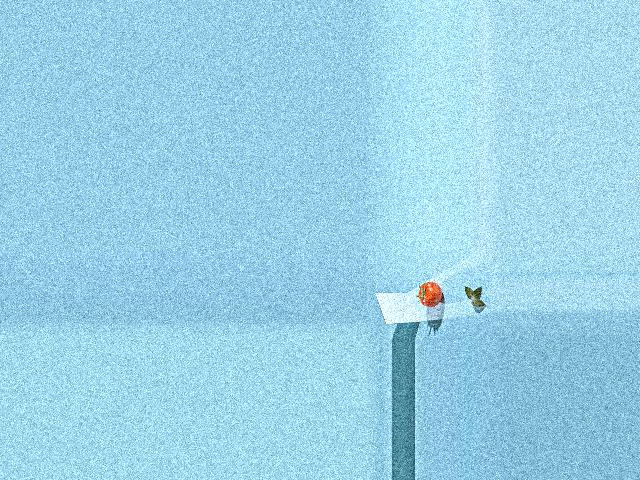tomato: (418, 281, 442, 307)
